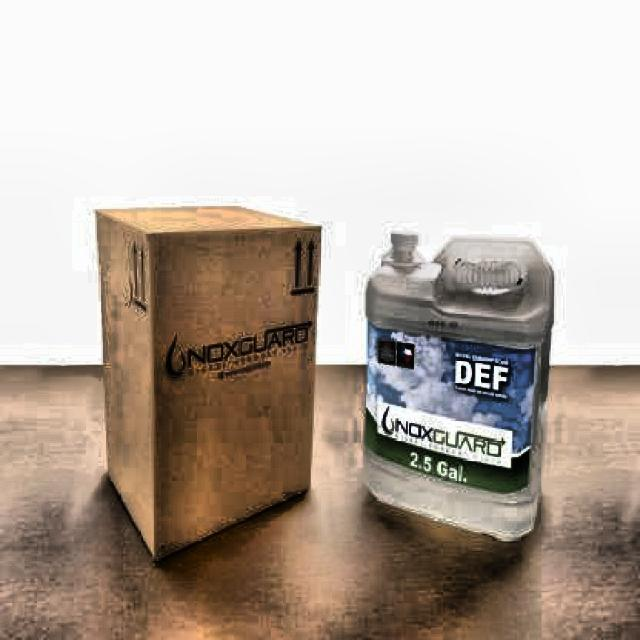Cardbox: (83, 192, 337, 580)
